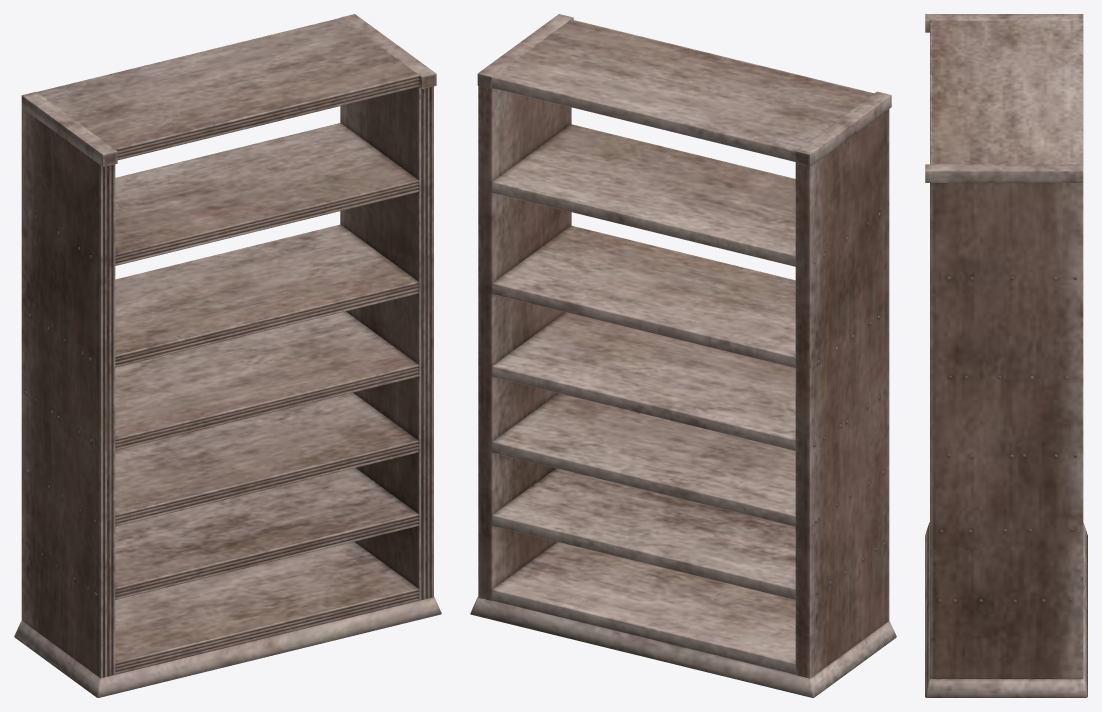
Rendered from wooden_bookshelf_worn-5e5f5d85.glb.
3 renders of one model, left to right at view 1: azimuth 30°, elevation 25°; view 2: azimuth 150°, elevation 25°; view 3: azimuth 270°, elevation 25°, orthographic. The views are drawn at different scales.
Visible parts, largest first — view 1: wooden_bookshelf_worn; view 2: wooden_bookshelf_worn; view 3: wooden_bookshelf_worn.
Boxes of the visible parts, <box> form: wooden_bookshelf_worn: <box>14,14,441,697</box>; wooden_bookshelf_worn: <box>470,14,896,697</box>; wooden_bookshelf_worn: <box>925,14,1087,697</box>.
Size of the model in its own units: 1.37 by 2.06 by 0.5813.
1 material, 1 textured.
